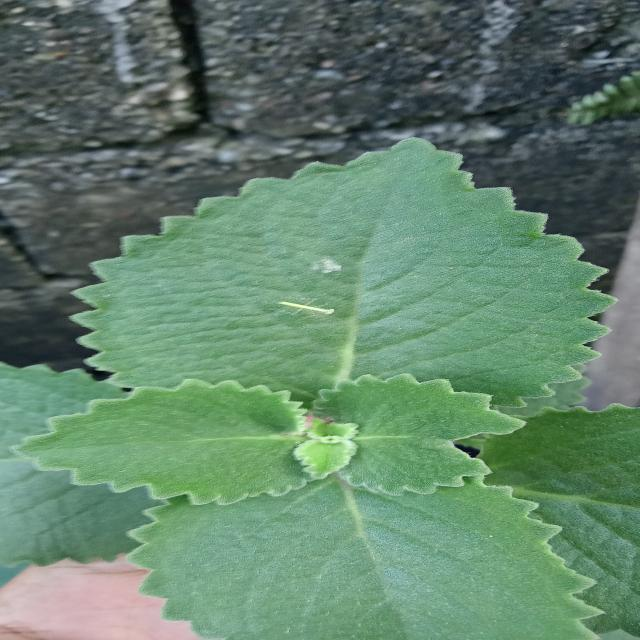Oregano: (55, 118, 640, 458)
